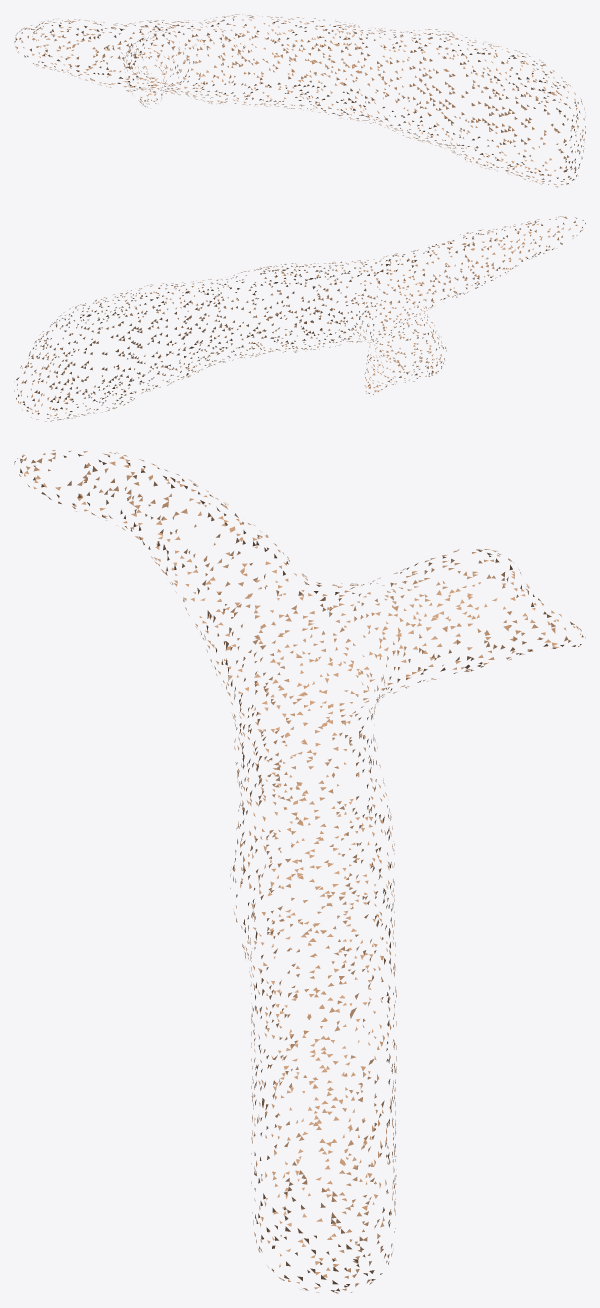
Rendered from morph_005.glb.
3 renders of one model, top to bottom at view 1: azimuth 30°, elevation 25°; view 2: azimuth 150°, elevation 25°; view 3: azimuth 270°, elevation 25°, orthographic. The views are drawn at different scales.
Bounding box in the file's own units: 121 × 63.03 × 70.44.
